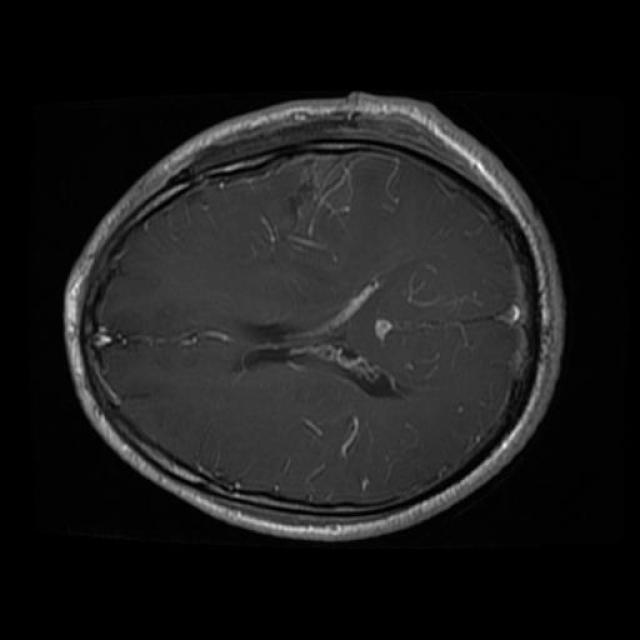Glioma: (288, 156, 351, 249)
